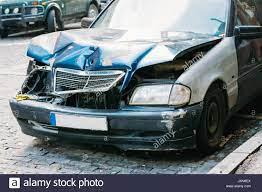bonnet-dent: (28, 24, 210, 72)
front-bumper-dent: (120, 97, 207, 162)
